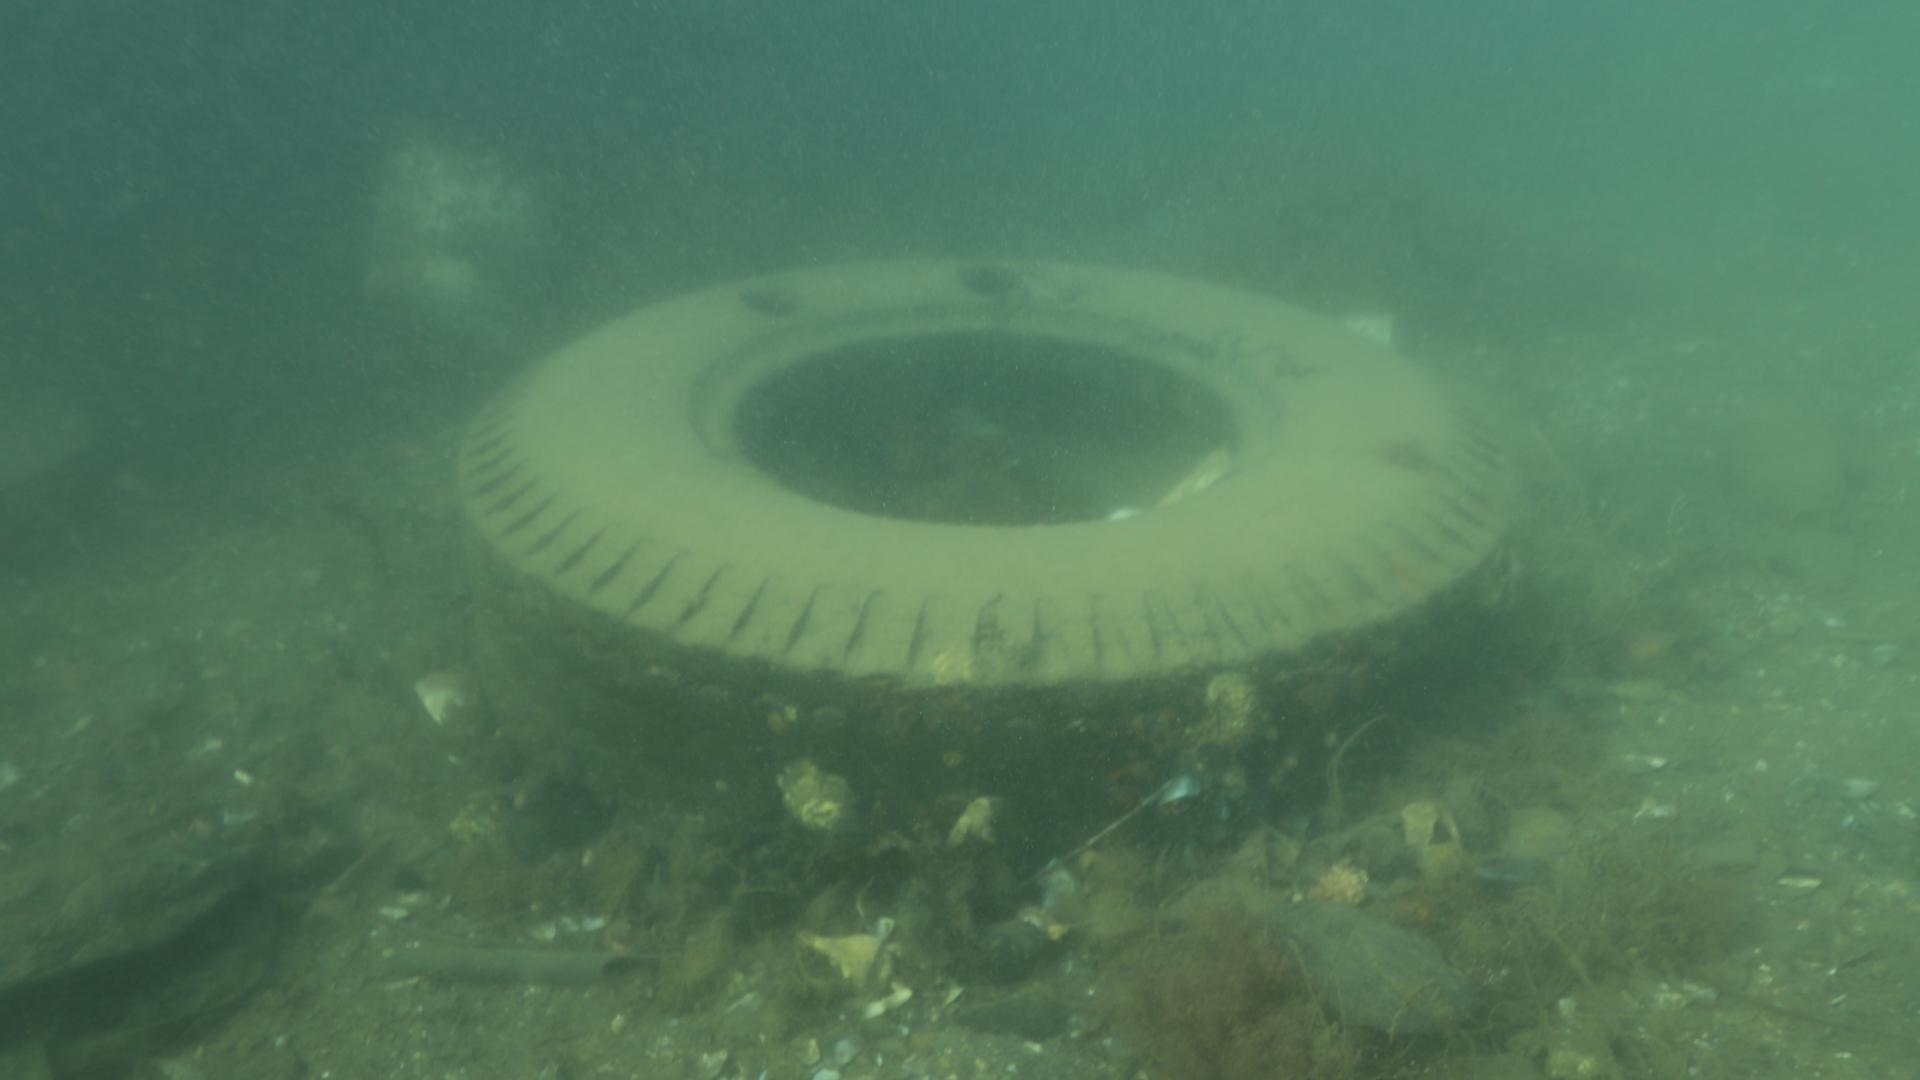tire: (456, 257, 1511, 907)
